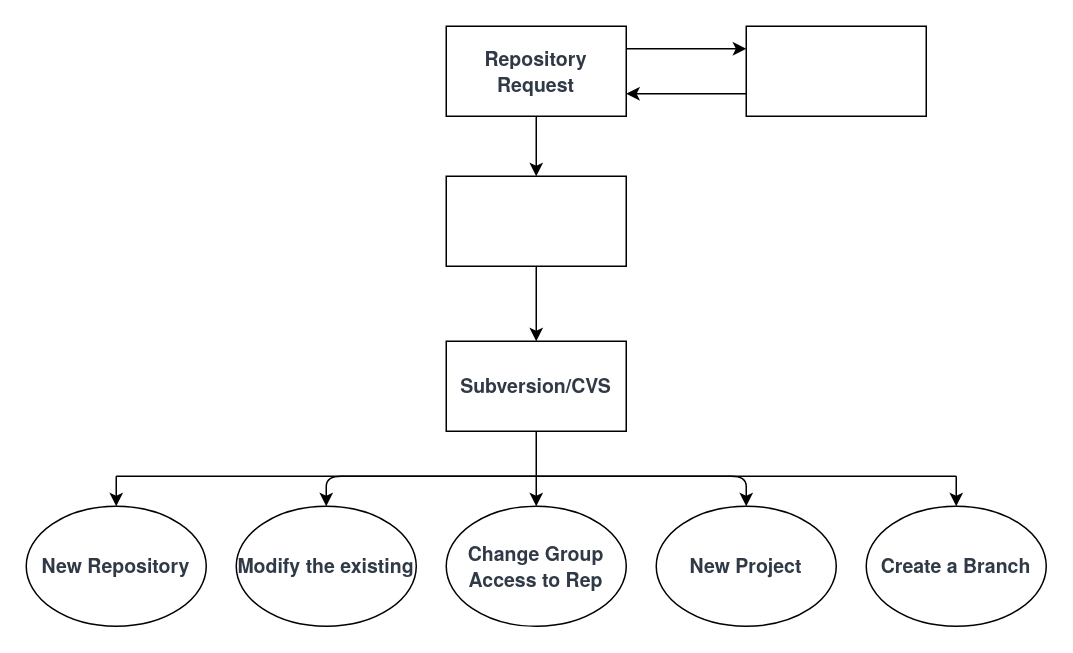
Some shapes in this 1073 by 653 pixel diagram are drawn without their labels. Here are the shapes that lost their labels. From the top down, the centre of each, then its label:
At point (835, 70): "Authorizes the User".
At point (535, 220): "List the Repositories".
